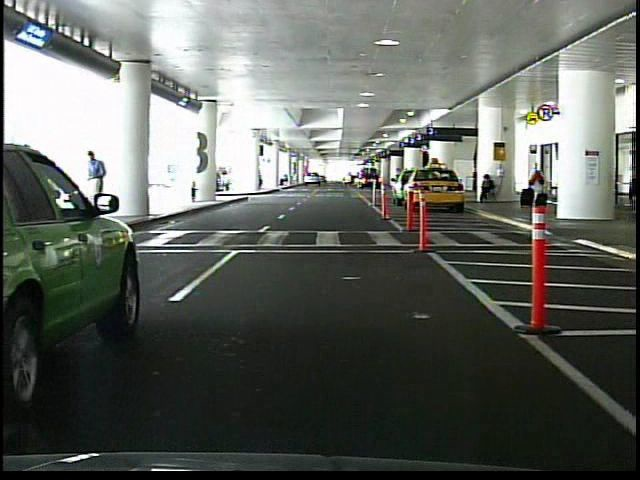person: (89, 150, 112, 203), (530, 161, 548, 209), (479, 172, 499, 204)
